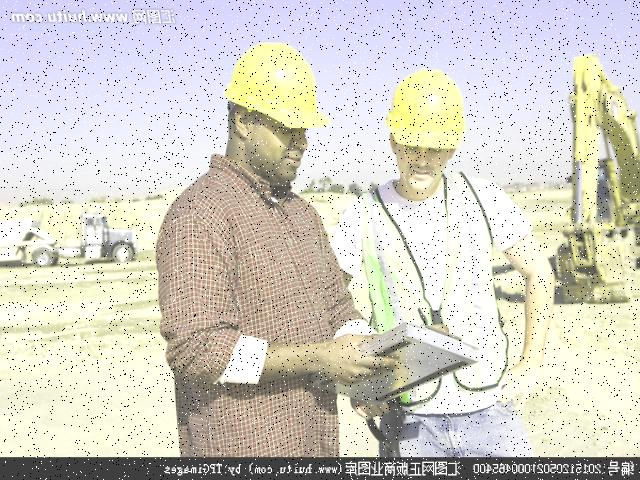Helmet: (221, 36, 334, 133), (382, 64, 470, 157)
